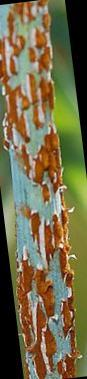Sugarcane: (11, 203, 82, 366), (3, 20, 67, 194)
